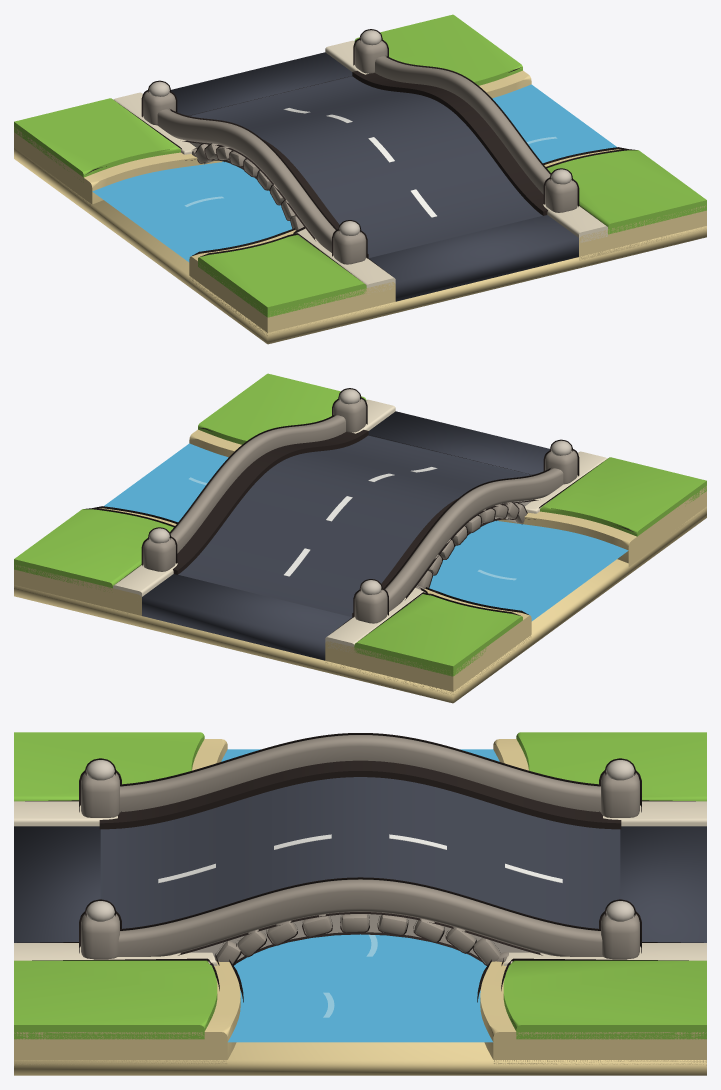
File: River_RoadBridge.fbx
3 views of the same model, one above another, from view 1: azimuth 30°, elevation 25°; view 2: azimuth 150°, elevation 25°; view 3: azimuth 270°, elevation 25° (orthographic). The views are drawn at different scales.
Visible parts, largest first — view 1: Tile_River_RoadBridge_Asphalt, Tile_River_RoadBridge_Grass, Tile_River_RoadBridge_Sand, Tile_River_RoadBridge_Water, Tile_River_RoadBridge_StoneDark, Tile_River_RoadBridge_Outline, Tile_River_RoadBridge_Sidewalk, Tile_River_RoadBridge_Stone, Tile_River_RoadBridge_LineWhite; view 2: Tile_River_RoadBridge_Asphalt, Tile_River_RoadBridge_Grass, Tile_River_RoadBridge_Sand, Tile_River_RoadBridge_Water, Tile_River_RoadBridge_StoneDark, Tile_River_RoadBridge_Outline, Tile_River_RoadBridge_Sidewalk, Tile_River_RoadBridge_Stone, Tile_River_RoadBridge_LineWhite; view 3: Tile_River_RoadBridge_Asphalt, Tile_River_RoadBridge_Grass, Tile_River_RoadBridge_StoneDark, Tile_River_RoadBridge_Sand, Tile_River_RoadBridge_Water, Tile_River_RoadBridge_Outline, Tile_River_RoadBridge_Sidewalk, Tile_River_RoadBridge_Stone, Tile_River_RoadBridge_LineWhite.
Part boxes in pixels (left/top/right/bottom): Tile_River_RoadBridge_Asphalt: left=171, top=52, right=578, bottom=301; Tile_River_RoadBridge_Grass: left=14, top=14, right=706, bottom=317; Tile_River_RoadBridge_Sand: left=14, top=70, right=706, bottom=344; Tile_River_RoadBridge_Water: left=92, top=84, right=616, bottom=262; Tile_River_RoadBridge_StoneDark: left=143, top=40, right=577, bottom=264; Tile_River_RoadBridge_Outline: left=86, top=29, right=636, bottom=277; Tile_River_RoadBridge_Sidewalk: left=113, top=40, right=607, bottom=294; Tile_River_RoadBridge_Stone: left=149, top=30, right=571, bottom=235; Tile_River_RoadBridge_LineWhite: left=283, top=108, right=436, bottom=217; Tile_River_RoadBridge_Asphalt: left=142, top=411, right=549, bottom=660; Tile_River_RoadBridge_Grass: left=14, top=373, right=706, bottom=676; Tile_River_RoadBridge_Sand: left=14, top=429, right=706, bottom=703; Tile_River_RoadBridge_Water: left=104, top=443, right=628, bottom=621; Tile_River_RoadBridge_StoneDark: left=143, top=399, right=577, bottom=623; Tile_River_RoadBridge_Outline: left=84, top=388, right=635, bottom=636; Tile_River_RoadBridge_Sidewalk: left=113, top=399, right=607, bottom=651; Tile_River_RoadBridge_Stone: left=149, top=389, right=571, bottom=594; Tile_River_RoadBridge_LineWhite: left=284, top=467, right=437, bottom=576; Tile_River_RoadBridge_Asphalt: left=14, top=777, right=706, bottom=942; Tile_River_RoadBridge_Grass: left=14, top=732, right=706, bottom=1039; Tile_River_RoadBridge_StoneDark: left=81, top=735, right=639, bottom=964; Tile_River_RoadBridge_Sand: left=14, top=739, right=706, bottom=1075; Tile_River_RoadBridge_Water: left=221, top=749, right=499, bottom=1042; Tile_River_RoadBridge_Outline: left=17, top=733, right=703, bottom=1023; Tile_River_RoadBridge_Sidewalk: left=14, top=801, right=706, bottom=965; Tile_River_RoadBridge_Stone: left=86, top=760, right=634, bottom=960; Tile_River_RoadBridge_LineWhite: left=158, top=834, right=562, bottom=883.
Size of the model in its own units: 24 by 4.67 by 24.
